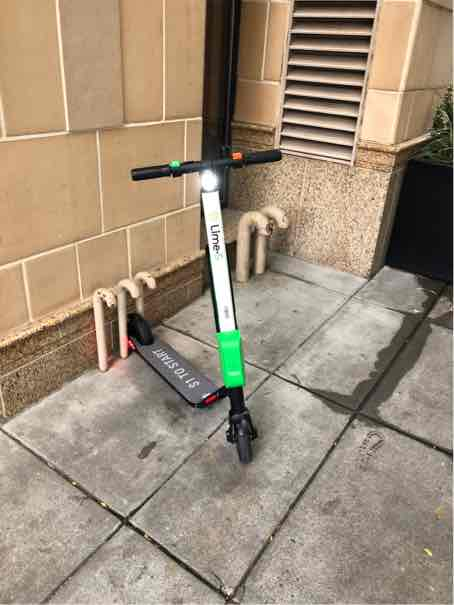scooter: (109, 145, 279, 481)
